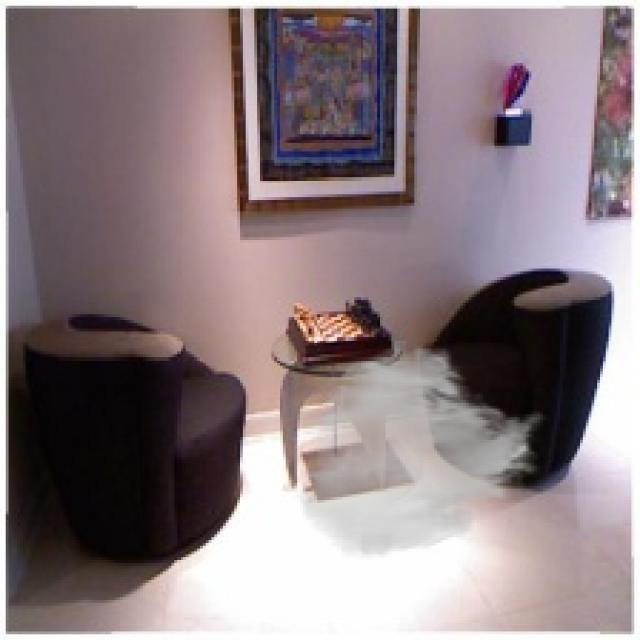Smoke: (294, 343, 549, 560)
